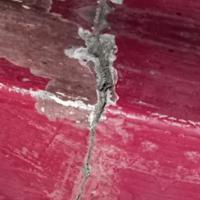crack: (48, 0, 135, 199)
